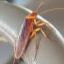cockroach: (14, 10, 38, 60)
